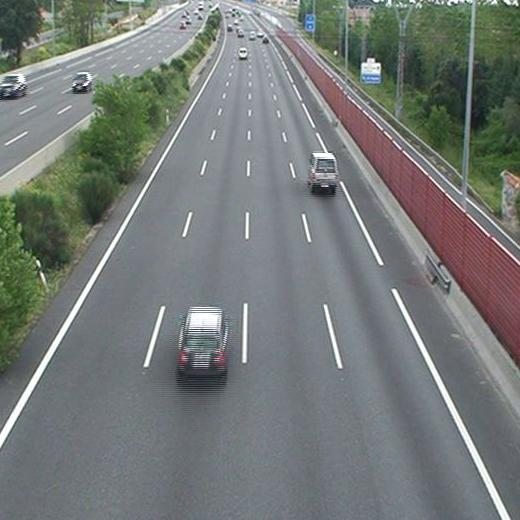car: (179, 308, 225, 373), (309, 154, 338, 189)
van: (238, 47, 247, 58)
